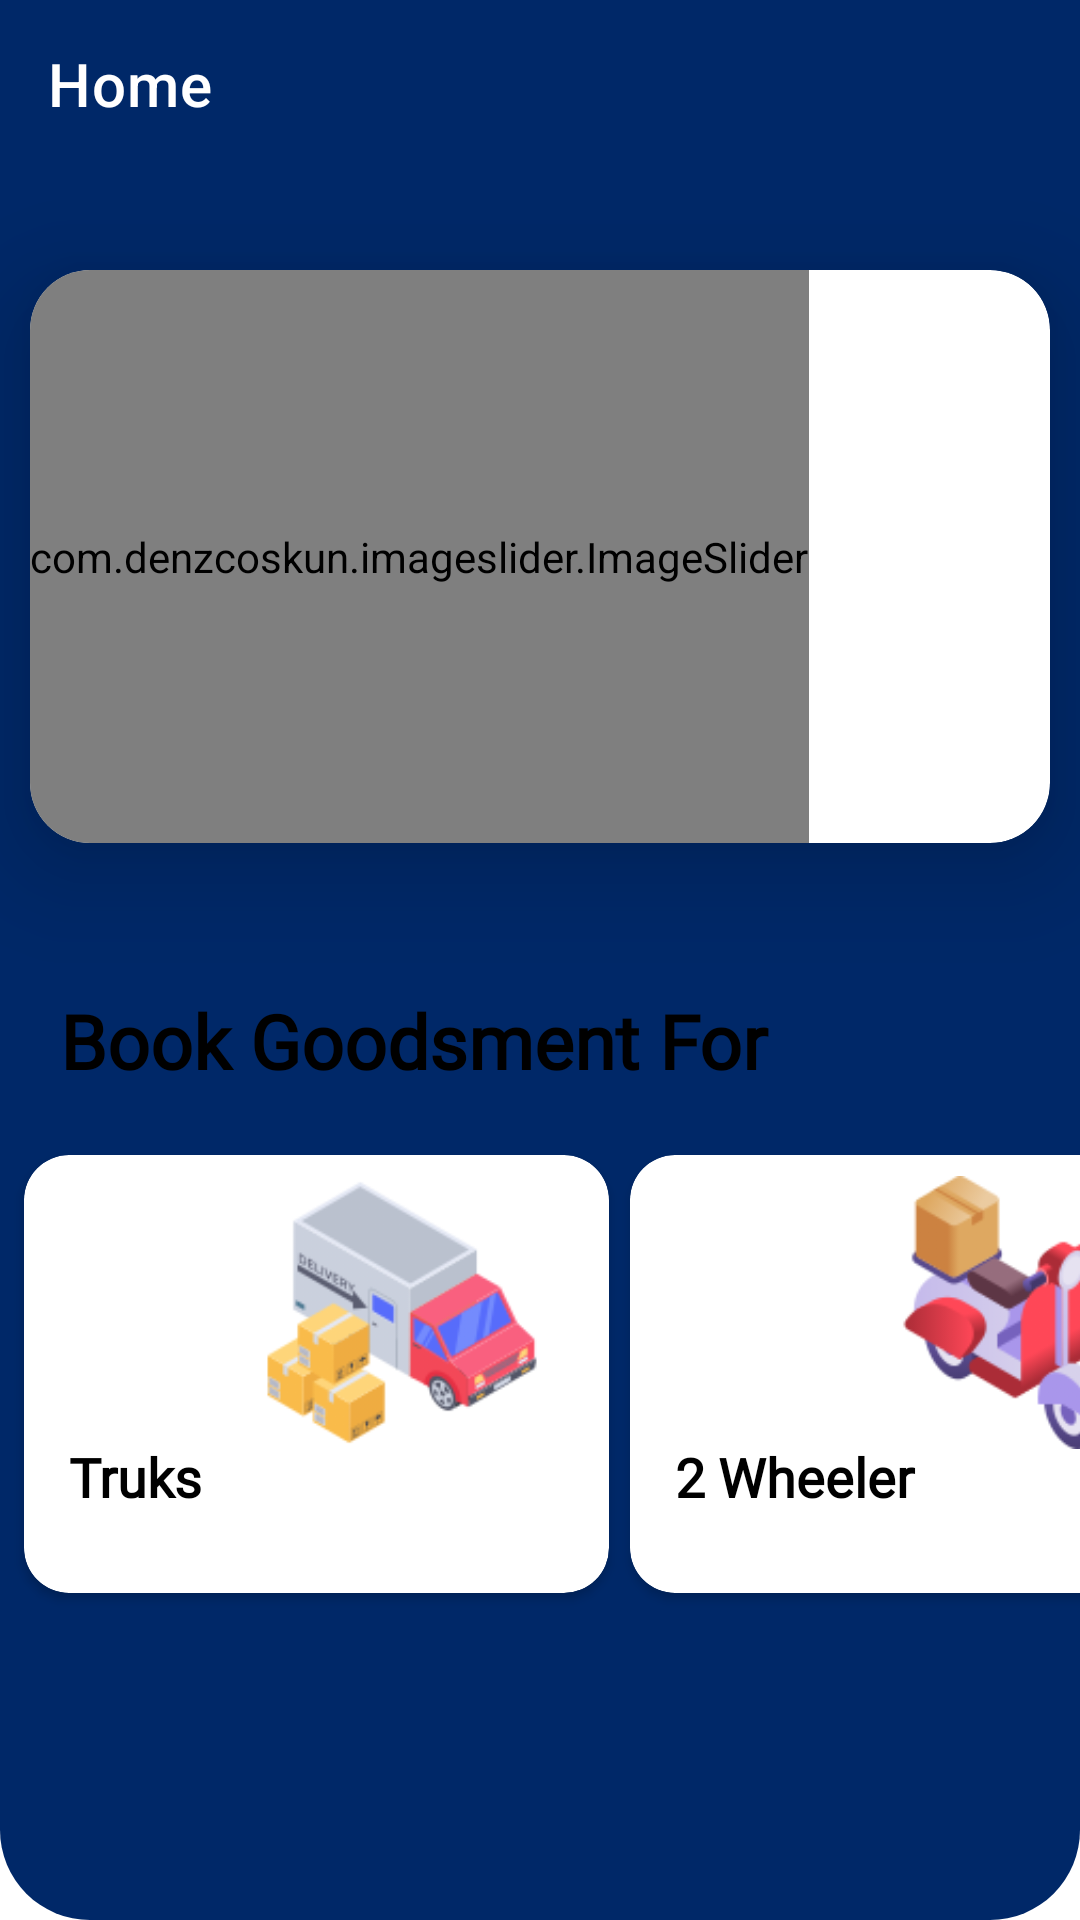

Screen size 1080*1920. Icon name, then its box in pixels as Rect(x1, y1, x2, y2):
goodstruck: Rect(267, 1184, 537, 1443)
